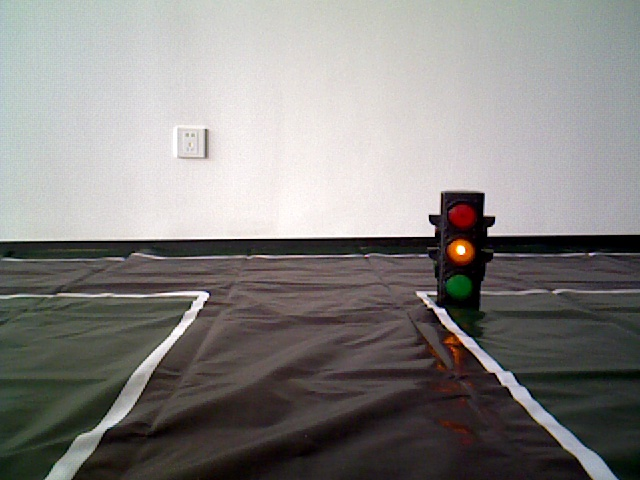yellow: (442, 193, 485, 308)
